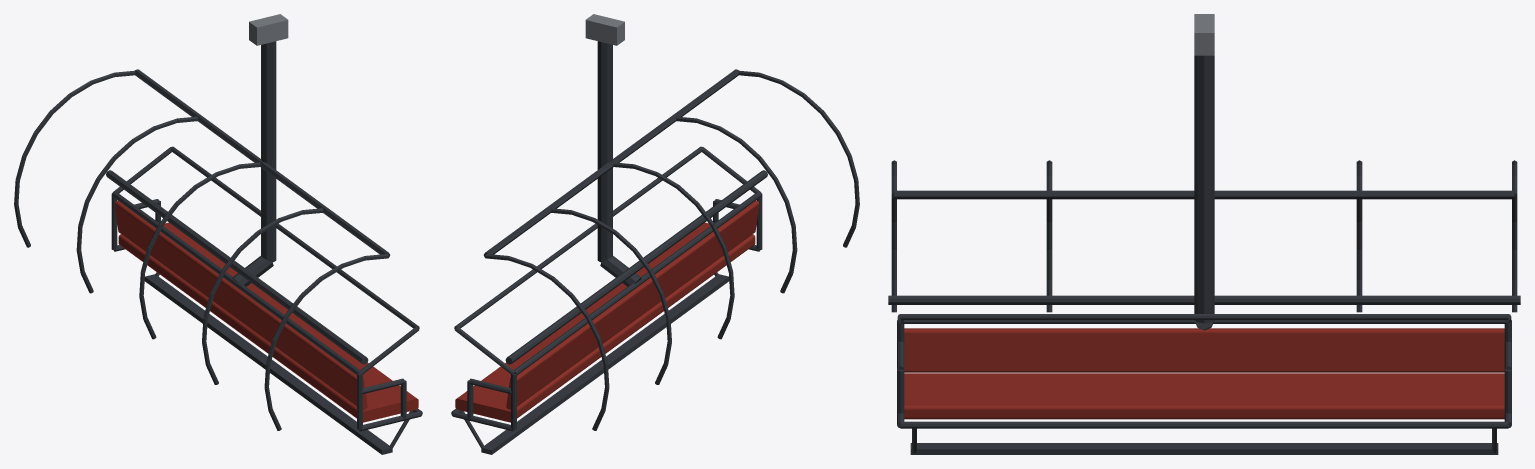
File: chair_8pack_bubble_up.obj
The picture shows the model from 3 angles, left to right: view 1: azimuth 30°, elevation 25°; view 2: azimuth 150°, elevation 25°; view 3: azimuth 270°, elevation 25°; orthographic projection. The views are drawn at different scales.
Bounding box in the file's own units: 1.84 × 3.78 × 5.06.
